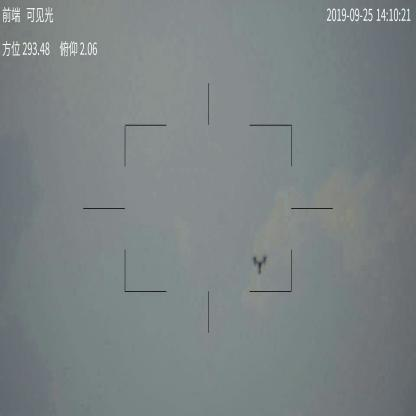uav: (252, 253, 268, 275)
